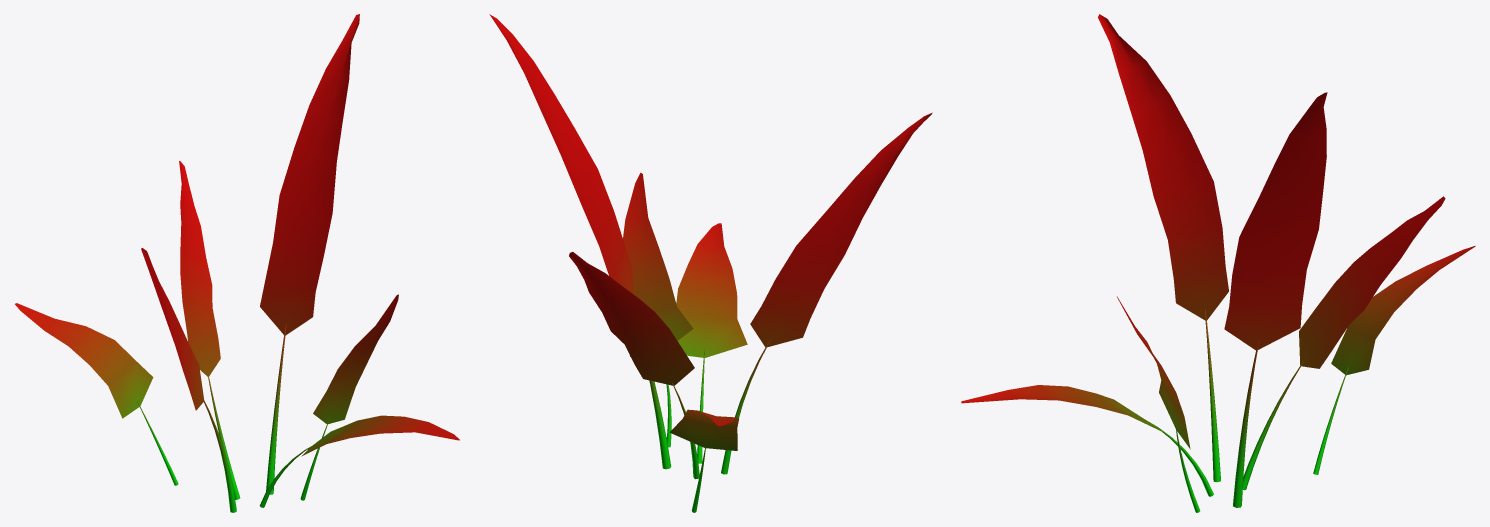
Rendered from Silvery Glade Fern_LOD1_Var2_xf5lebcqx.fbx.
3 renders of one model, left to right at view 1: azimuth 30°, elevation 25°; view 2: azimuth 150°, elevation 25°; view 3: azimuth 270°, elevation 25°, orthographic. The views are drawn at different scales.
Parts seen in each view (by area): view 1: _zaqj_Var2_LOD1; view 2: _zaqj_Var2_LOD1; view 3: _zaqj_Var2_LOD1.
Boxes of the visible parts, x1,y1,x2,y2 form: _zaqj_Var2_LOD1: (15, 14, 459, 512); _zaqj_Var2_LOD1: (489, 14, 932, 512); _zaqj_Var2_LOD1: (961, 14, 1475, 512).
Bounding box in the file's own units: 11.94 × 15.23 × 14.55.
